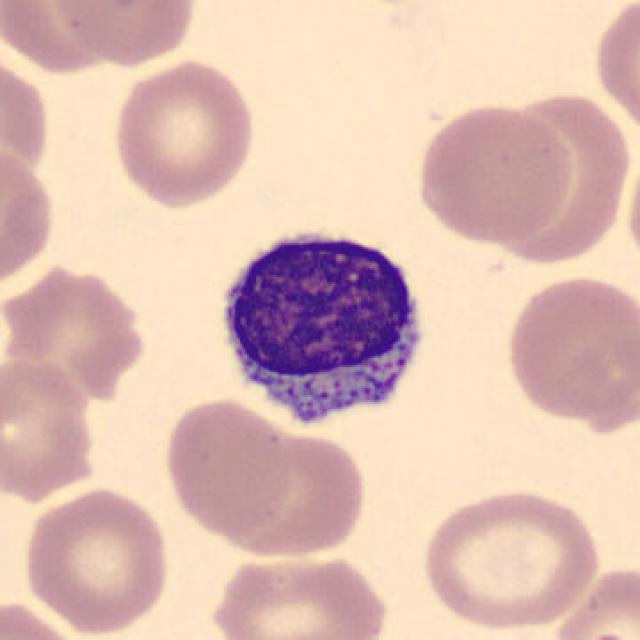Lymphocyte: (206, 213, 439, 439)
RBC: (478, 90, 640, 271), (416, 485, 604, 633), (411, 100, 576, 247), (18, 483, 174, 637), (108, 55, 260, 212), (214, 423, 372, 563), (502, 270, 638, 432), (160, 393, 297, 540), (5, 271, 143, 402), (206, 546, 392, 640), (0, 352, 101, 504), (51, 0, 201, 69), (0, 0, 133, 76), (0, 138, 59, 296), (545, 560, 638, 640), (0, 67, 53, 202), (590, 0, 638, 141), (0, 596, 87, 640), (622, 128, 640, 278)
